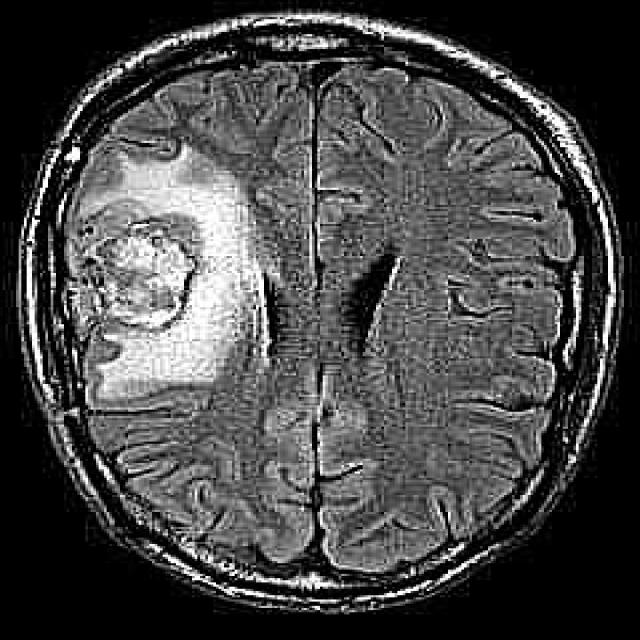Tumor-Cell: (81, 160, 248, 400)
